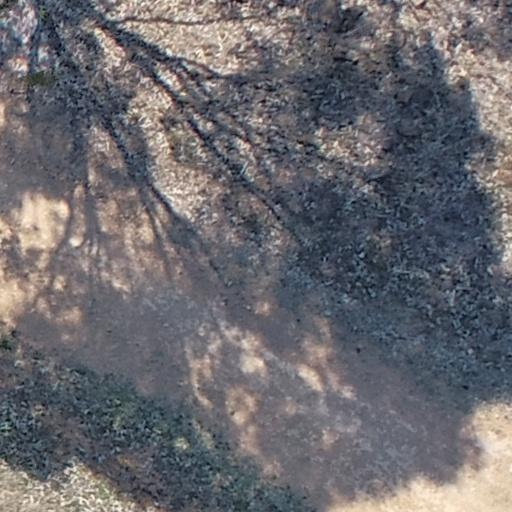stone: (312, 126, 328, 154), (411, 10, 433, 24), (328, 43, 346, 60), (396, 125, 420, 136), (446, 284, 456, 307), (347, 50, 360, 66), (395, 93, 410, 103), (406, 0, 424, 6)
